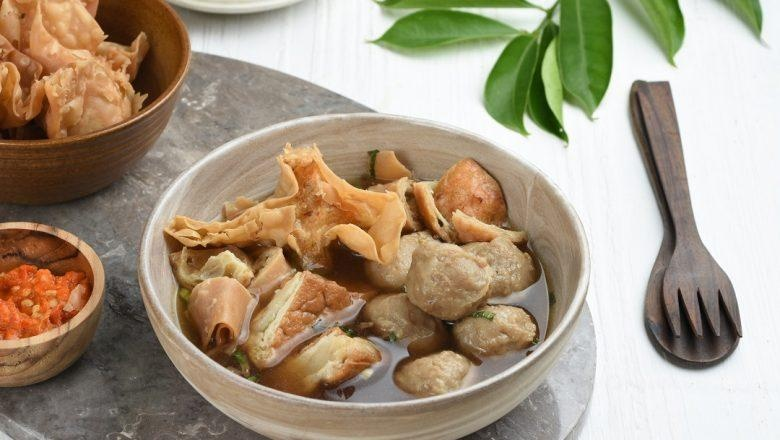bakso_malang: (166, 146, 556, 402)
